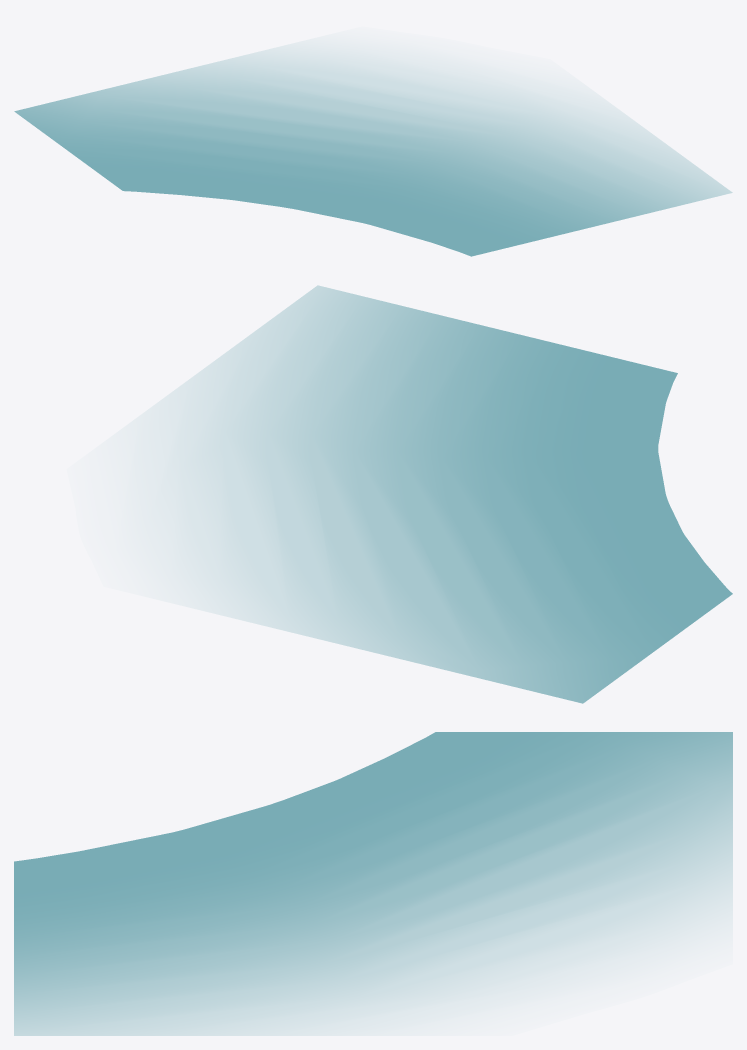
3 renders of one model, top to bottom at view 1: azimuth 30°, elevation 25°; view 2: azimuth 150°, elevation 25°; view 3: azimuth 270°, elevation 25°, orthographic. The views are drawn at different scales.
Parts seen in each view (by area): view 1: city; view 2: city; view 3: city.
Part boxes in pixels (x1,y1,x2,y2): city: [14, 45, 732, 256]; city: [154, 285, 732, 703]; city: [14, 732, 732, 1035].
Bounding box in the file's own units: 500 × 0 × 500.
